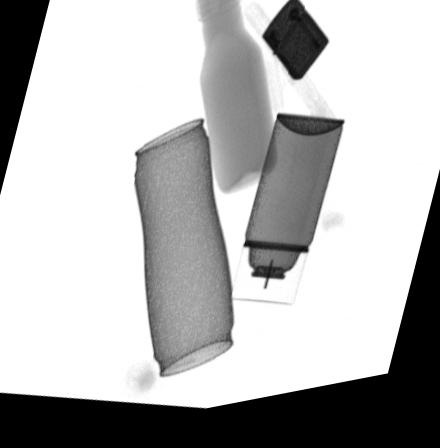Lighter: (261, 6, 330, 91)
Sprayer: (230, 122, 347, 316)
